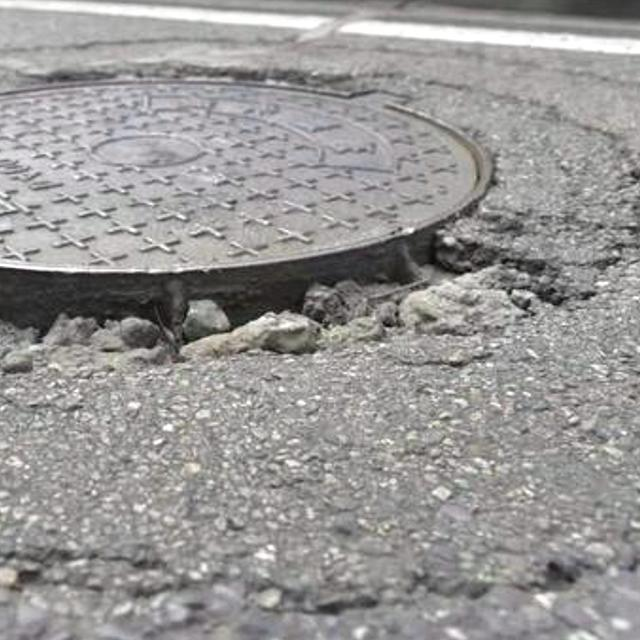circle: (0, 53, 640, 409)
